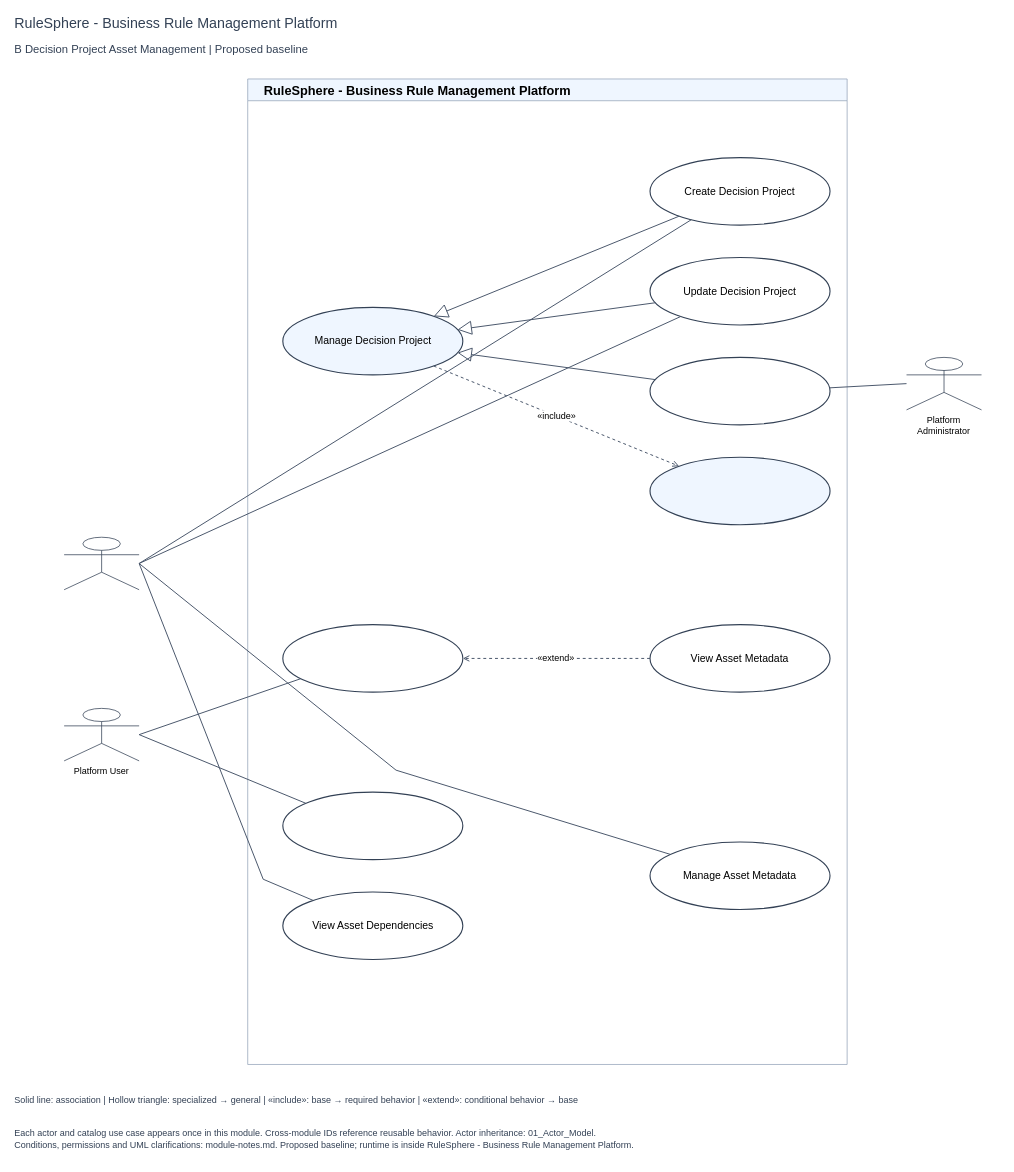
The diagram is 1014 pixels wide and 1172 high, and some of its shapes have lost their labels. Each missing label, with the centre of its shape:
Archive Decision Project: the point at 739,390
Authorize Operation: the point at 739,490
Rule / Decision Author: the point at 101,563
Search Decision Assets: the point at 372,658
View Decision Project: the point at 372,825
